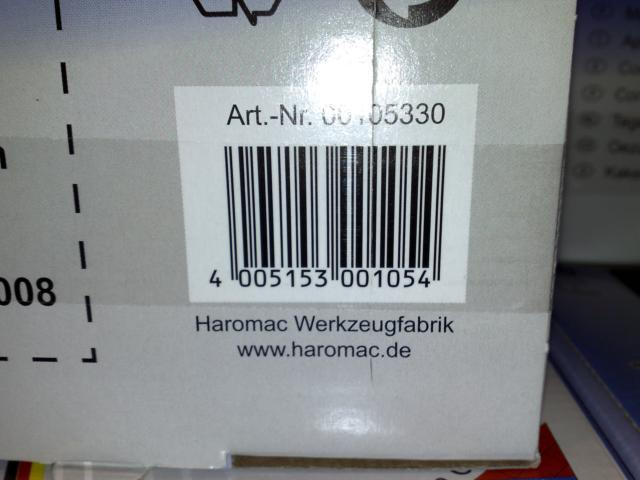Barkod: (219, 142, 452, 264)
